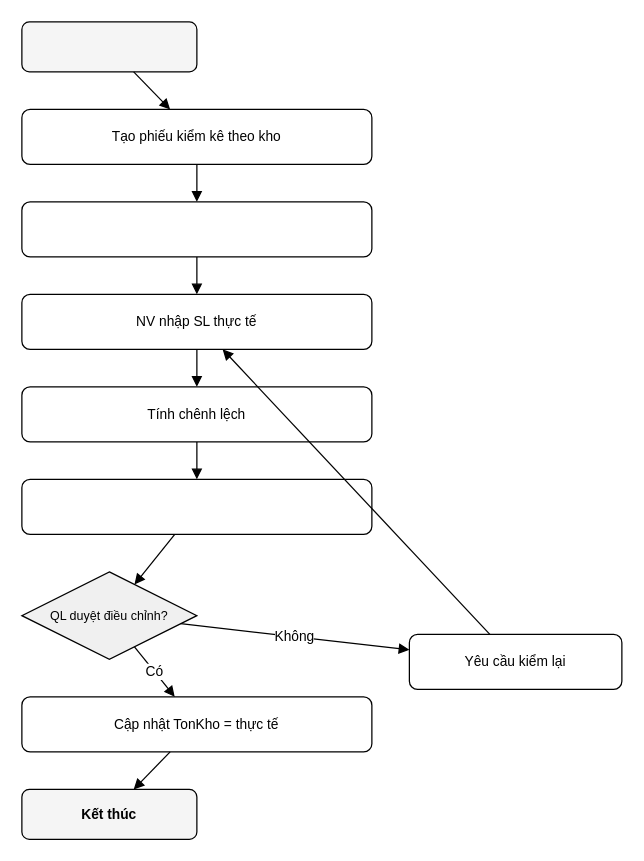
Image size: 644x861. Some labels were removed from this diagram. Here are the shapes that lost their labels. From the top down, the centre of each, then its label:
pixel 109 46: Bắt đầu
pixel 196 229: Hệ thống nạp SL theo sổ (TonKho)
pixel 196 506: Gửi duyệt
